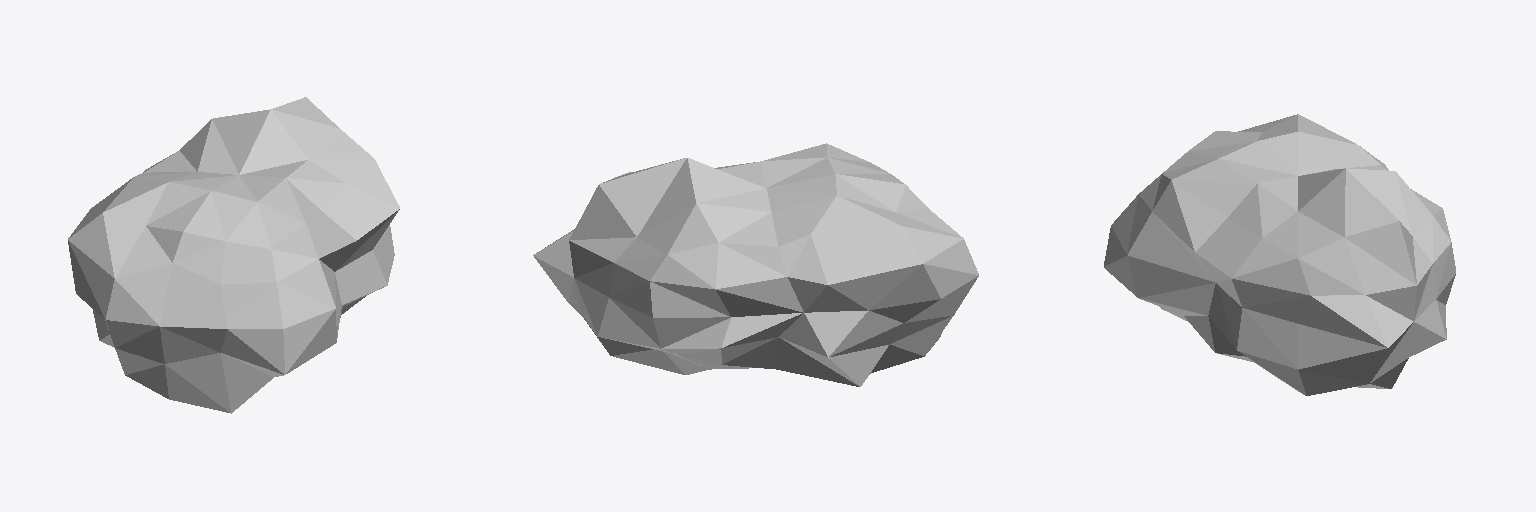
Rendered from Explosion3.obj.
The picture shows the model from 3 angles: view 1: azimuth 30°, elevation 25°; view 2: azimuth 150°, elevation 25°; view 3: azimuth 270°, elevation 25°; orthographic projection.
Parts seen in each view (by area): view 1: cloud.002; view 2: cloud.002; view 3: cloud.002.
Part boxes in pixels (x1,y1,x2,y2): cloud.002: (68,97,399,413); cloud.002: (533,143,978,386); cloud.002: (1104,114,1455,395).
Bounding box in the file's own units: 124 × 72.75 × 105.